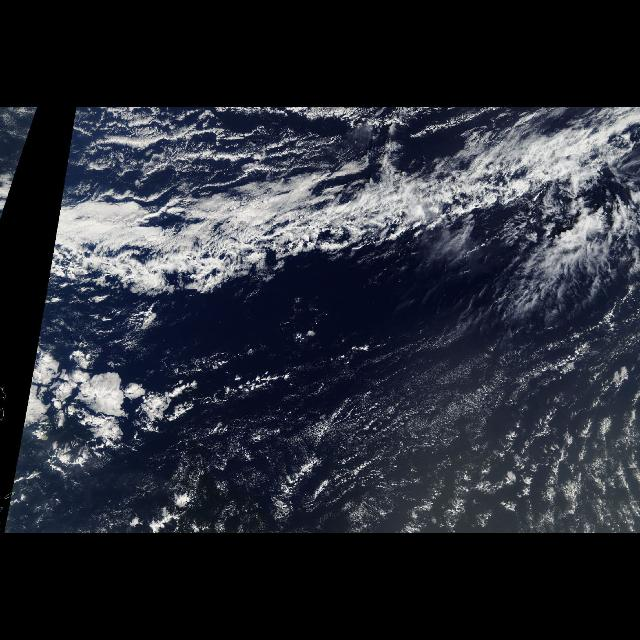Fish: (50, 107, 640, 313)
Flower: (2, 325, 216, 533)
Sugar: (166, 321, 640, 534)
